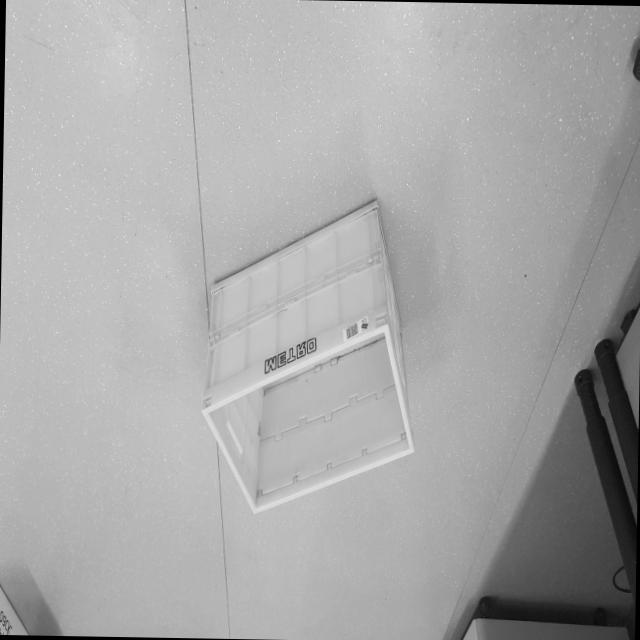box: (183, 173, 426, 530)
